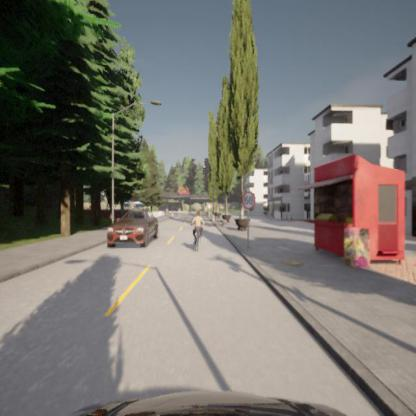bike: (190, 212, 204, 244)
traffic_sign_60: (241, 192, 254, 210)
vehicle: (106, 210, 160, 248)
